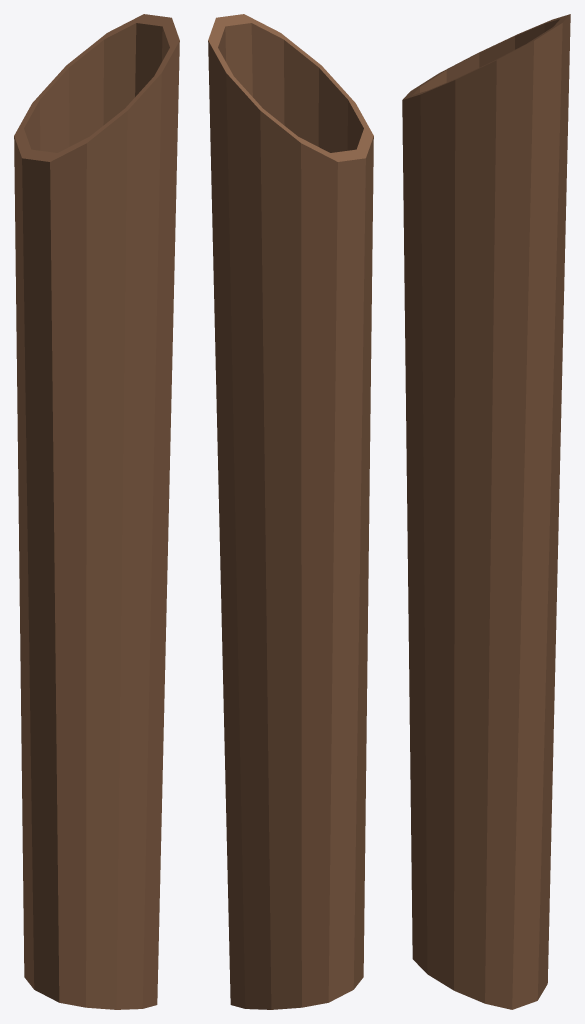
Rendered from LeatherQuiver.fbx.
3 renders of one model, left to right at view 1: azimuth 30°, elevation 25°; view 2: azimuth 150°, elevation 25°; view 3: azimuth 330°, elevation 25°, orthographic.
Visible parts, largest first — view 1: Quiver; view 2: Quiver; view 3: Quiver.
Part boxes in pixels (box(x1,y1,x2,y2)): Quiver: box(14, 14, 179, 1009); Quiver: box(208, 14, 373, 1009); Quiver: box(402, 14, 570, 1009).
Size of the model in its own units: 0.0761 by 0.4698 by 0.0541.
